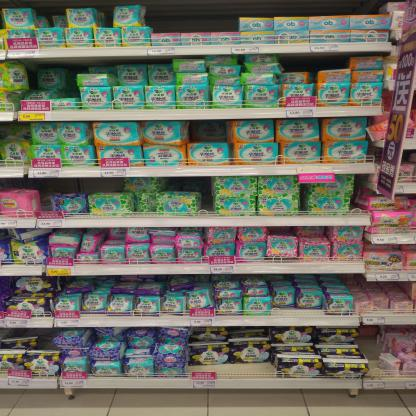Void: (148, 5, 237, 30), (42, 176, 124, 195), (36, 68, 76, 93), (164, 176, 214, 194), (279, 56, 346, 69), (189, 123, 228, 140)
